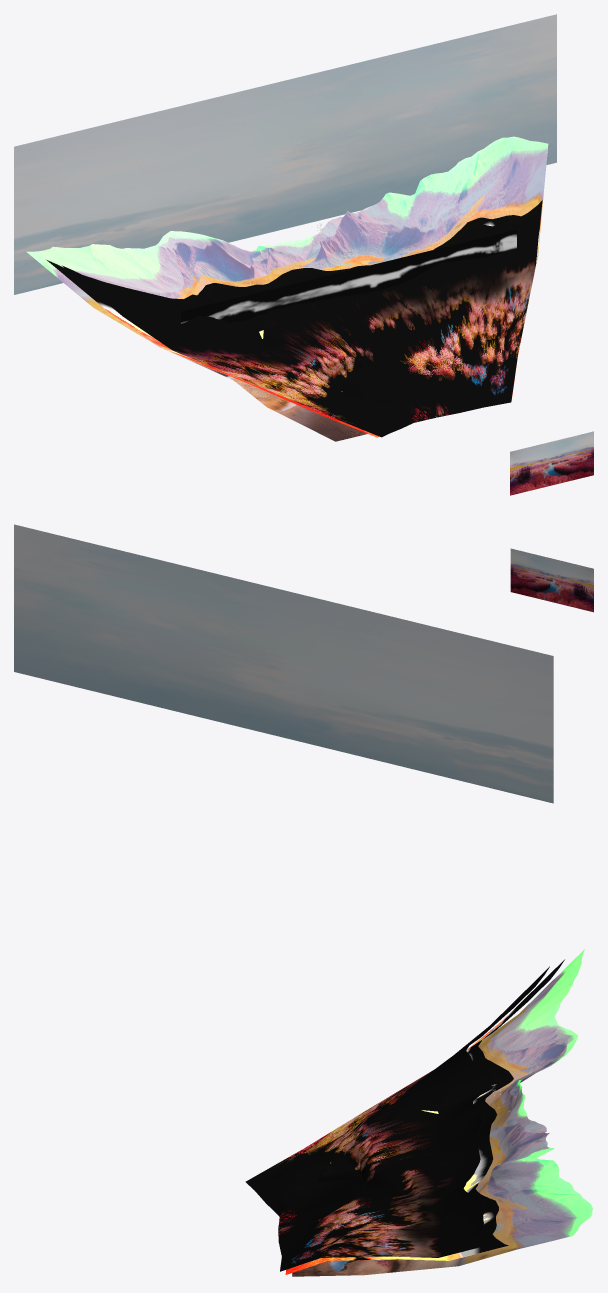
Rendered from cs-flowerfields.glb.
3 renders of one model, top to bottom at view 1: azimuth 30°, elevation 25°; view 2: azimuth 150°, elevation 25°; view 3: azimuth 270°, elevation 25°, orthographic. The views are drawn at different scales.
Visible parts, largest first — view 1: Sky, Flowers render, Ground, Fog, Background, Flowers; view 2: Sky, Background; view 3: Flowers render, Ground, Flowers.
Boxes of the visible parts, box(x1,y1,x2,y2) form: Sky: box(14, 14, 556, 294); Flowers render: box(62, 208, 541, 437); Ground: box(26, 136, 548, 441); Fog: box(181, 229, 516, 323); Background: box(510, 431, 593, 495); Flowers: box(47, 200, 542, 437); Sky: box(14, 524, 553, 803); Background: box(510, 548, 593, 612); Flowers render: box(245, 966, 549, 1271); Ground: box(292, 949, 592, 1276); Flowers: box(285, 959, 564, 1274).
Bounding box in the file's own units: 25.88 × 10.84 × 22.16.
6 materials, 6 textured.
